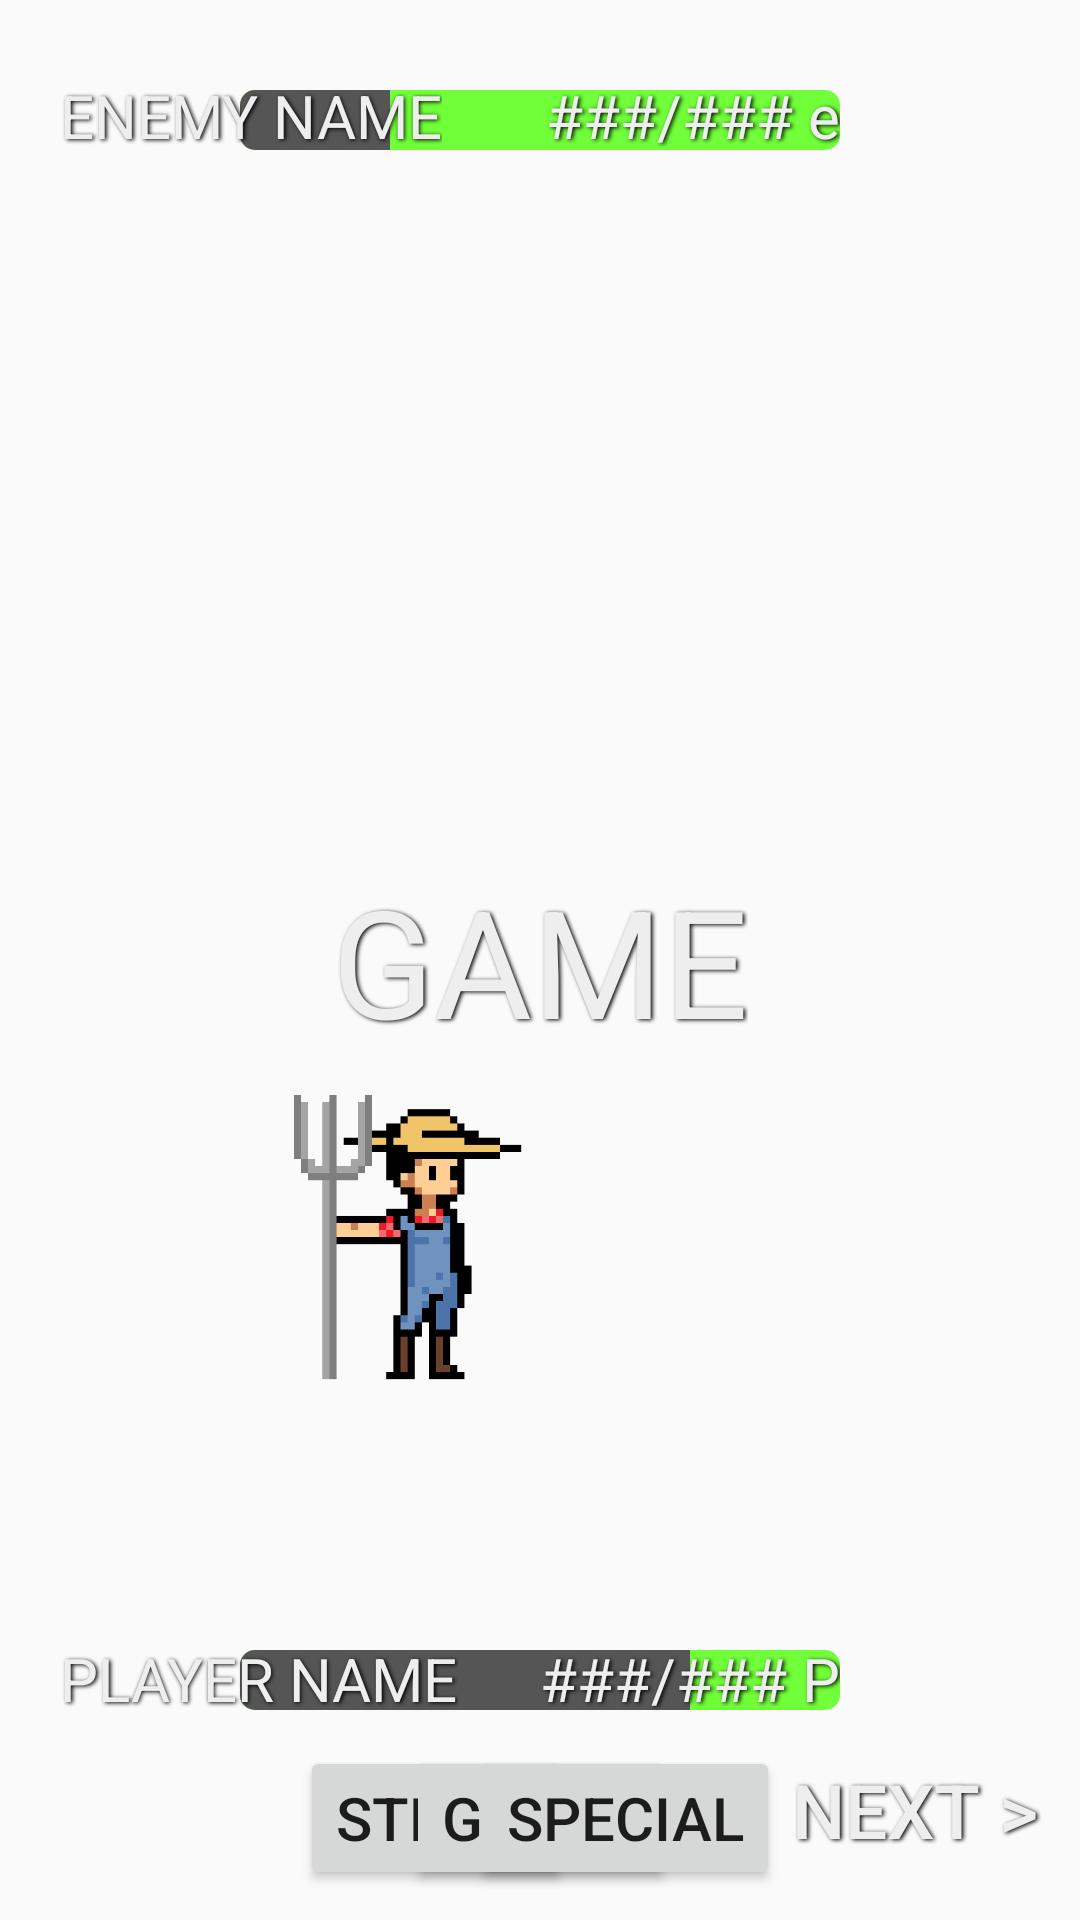

Icon click points for this 1080*1920 phone screenshot, format [x,y]:
farm: [408,1237]
